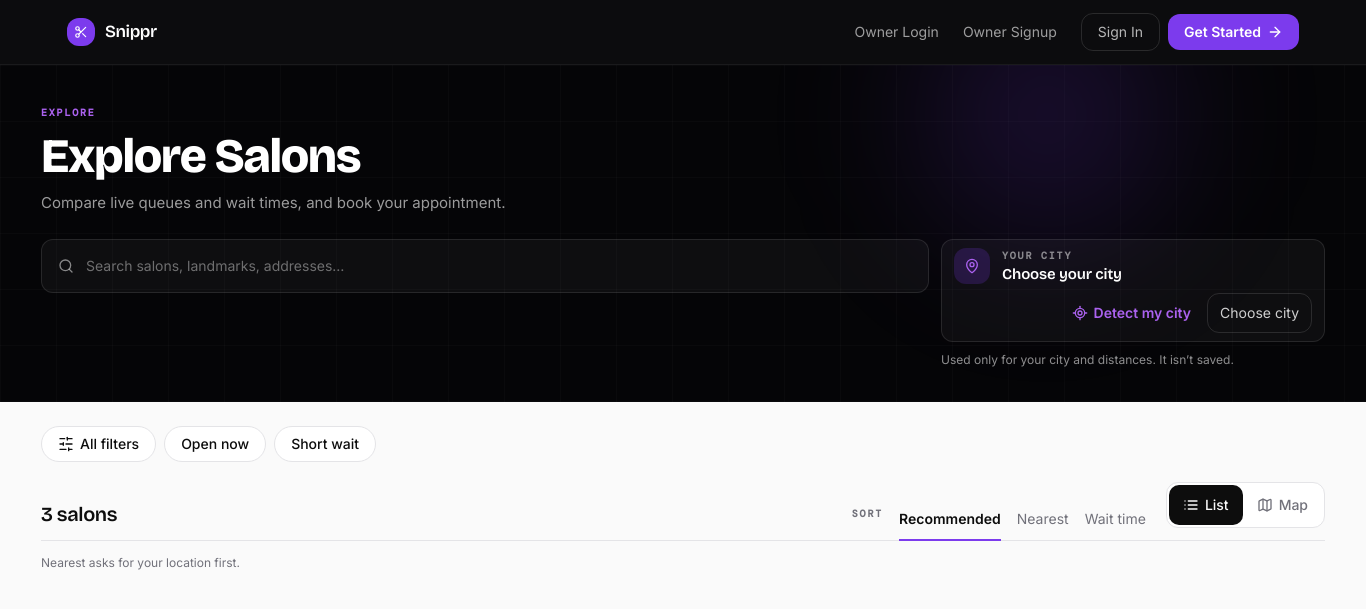
Test: /salons city detection — failures › city can't be resolved when the lookup service errors: no guess, manual selection offered
Click the button "Detect my city".
click(1131, 313)  # box [1062,293,1201,333]
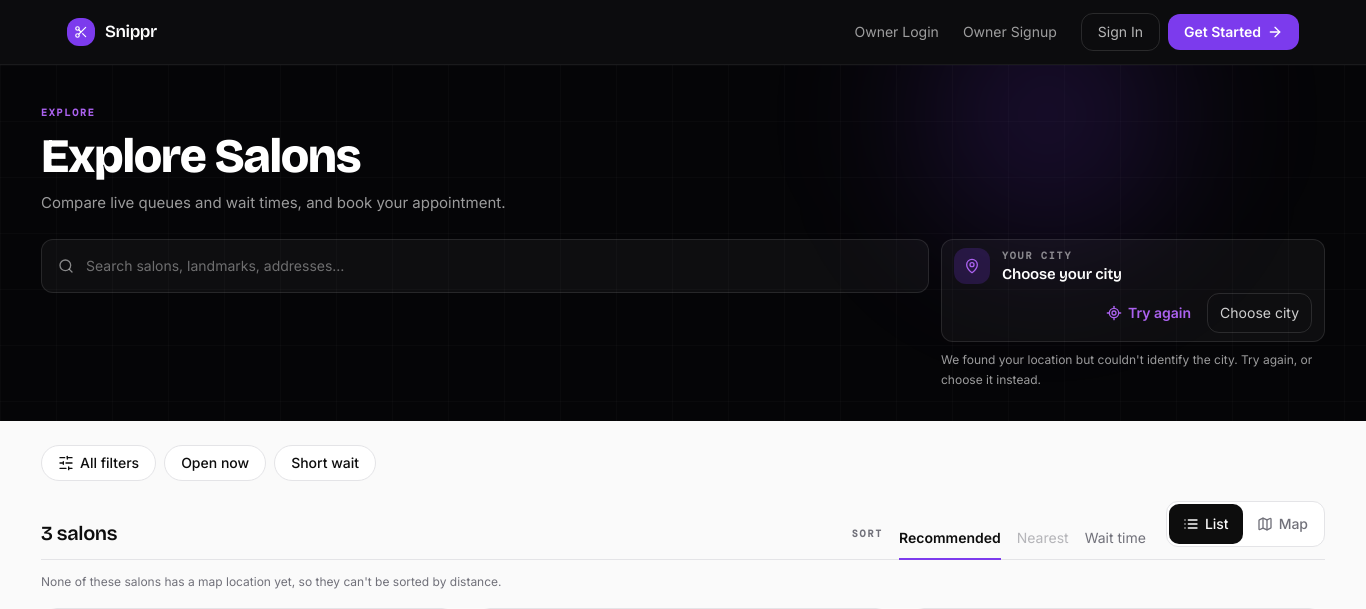
Expected: the text with test id "location-status" reads "Choose your city", [1002,264,1122,282]
Expected: the text "We found your location but couldn't identify the city. Try again, or choose it instead." is shown, [941,352,1312,386]
Expected: the button "Try again" is shown, [1096,293,1201,333]
